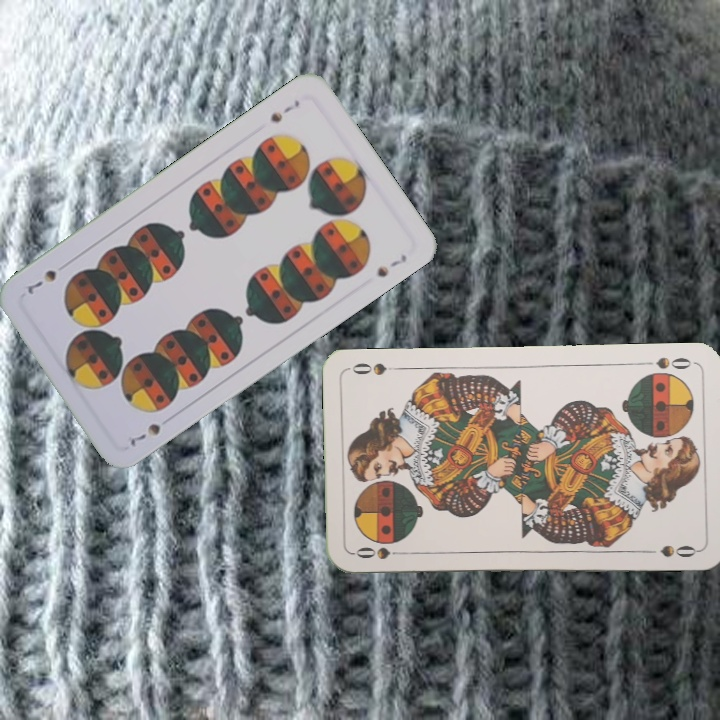S7: (123, 419, 164, 449), (266, 95, 303, 125)
SO: (350, 542, 409, 562), (652, 353, 694, 372)
